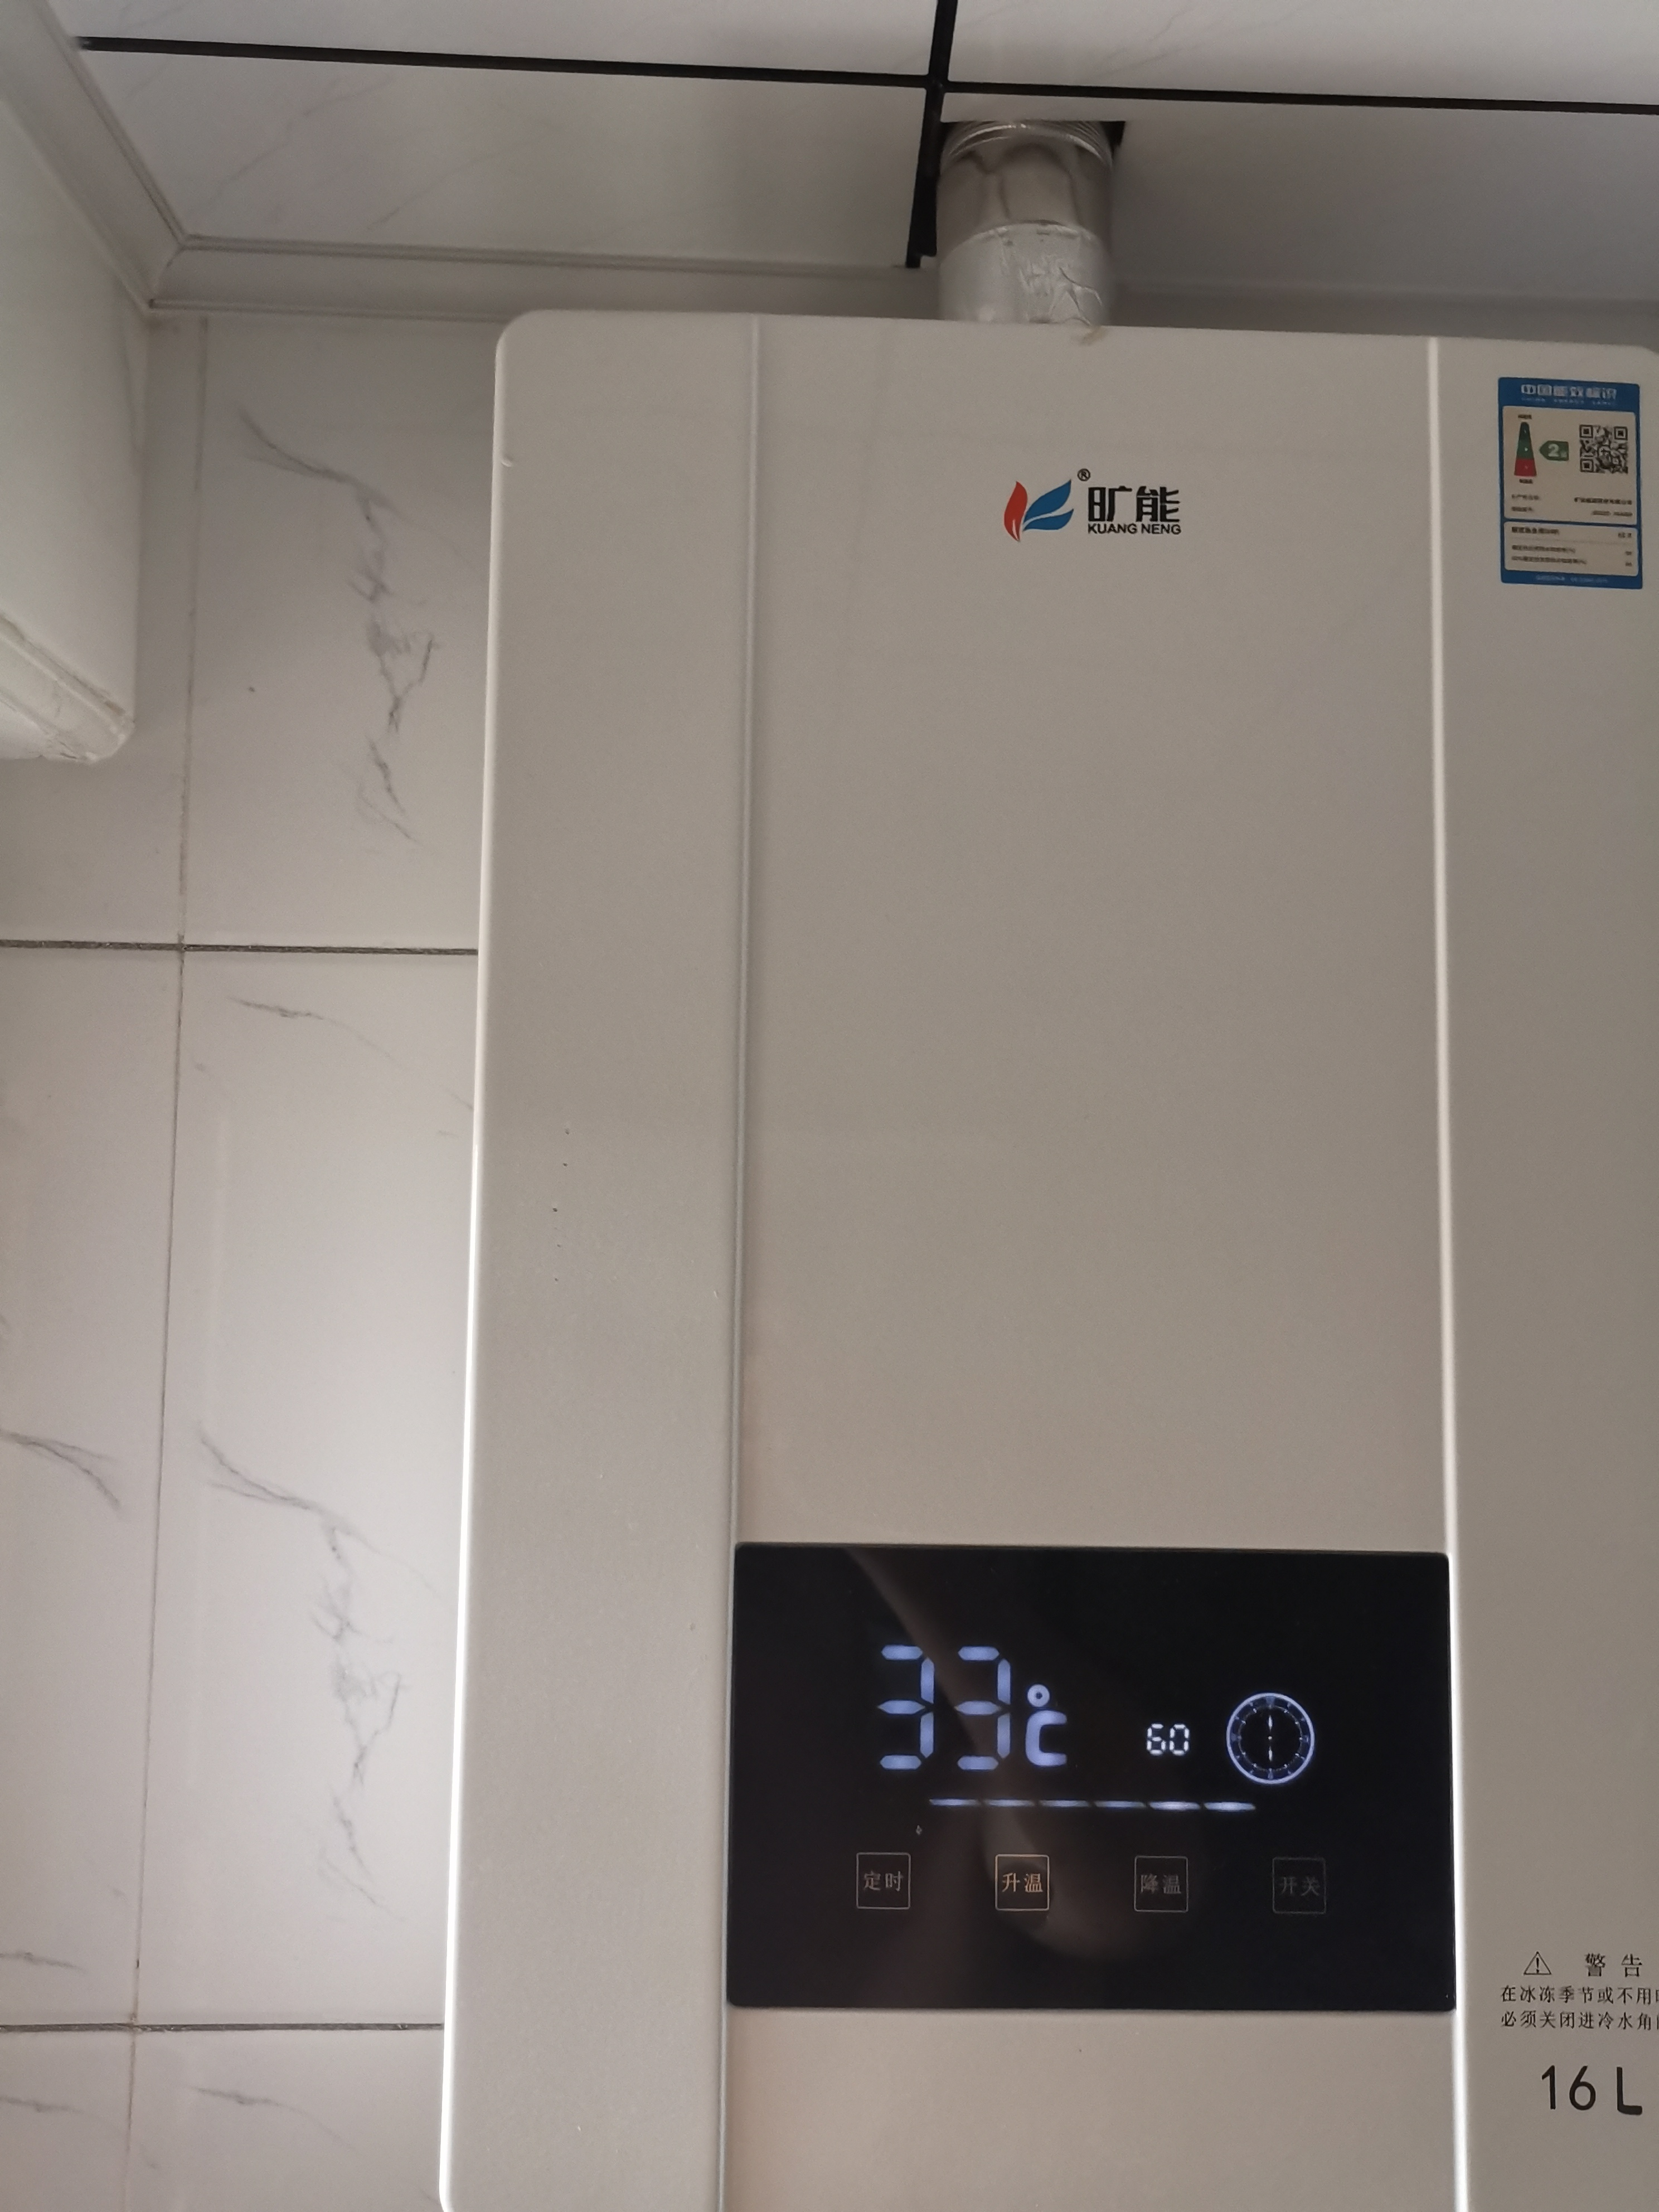loudou: (981, 442, 1202, 557)
